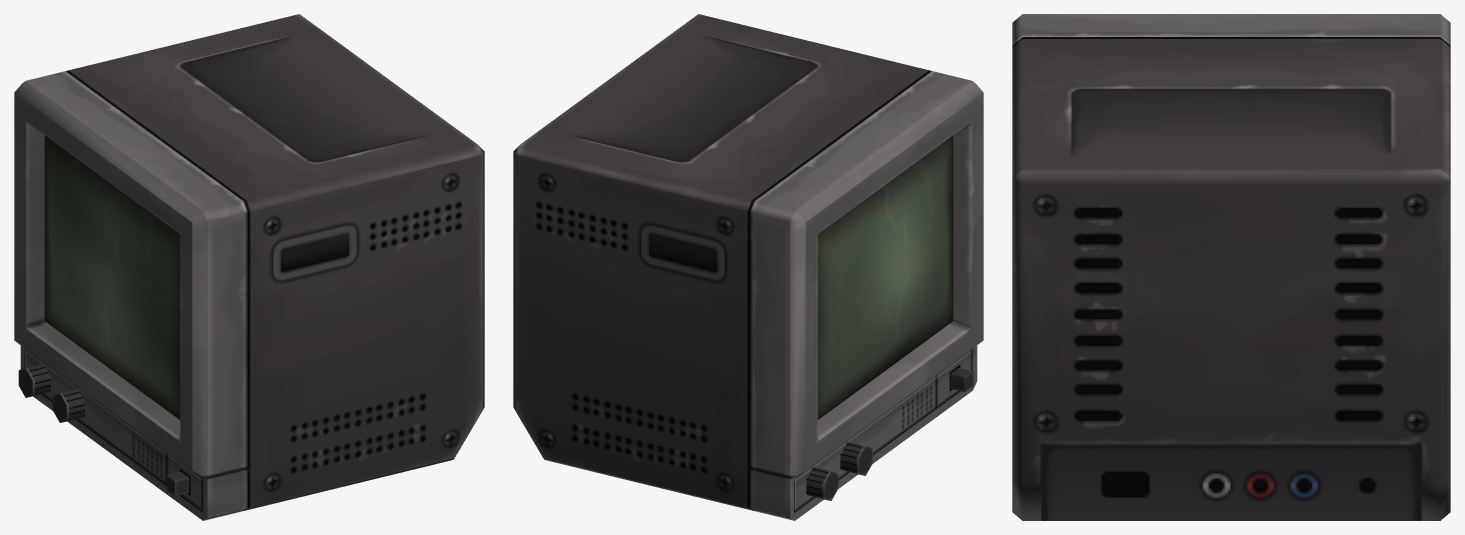
File: monitor01.fbx
3 renders of one model, left to right at view 1: azimuth 30°, elevation 25°; view 2: azimuth 150°, elevation 25°; view 3: azimuth 270°, elevation 25°, orthographic. The views are drawn at different scales.
Visible parts, largest first — view 1: monitor01; view 2: monitor01; view 3: monitor01.
Boxes of the visible parts, x1=… form: monitor01: x1=14, y1=14, x2=484, y2=520; monitor01: x1=513, y1=14, x2=983, y2=520; monitor01: x1=1012, y1=14, x2=1450, y2=520.
Size of the model in its own units: 41.65 by 41.17 by 45.
